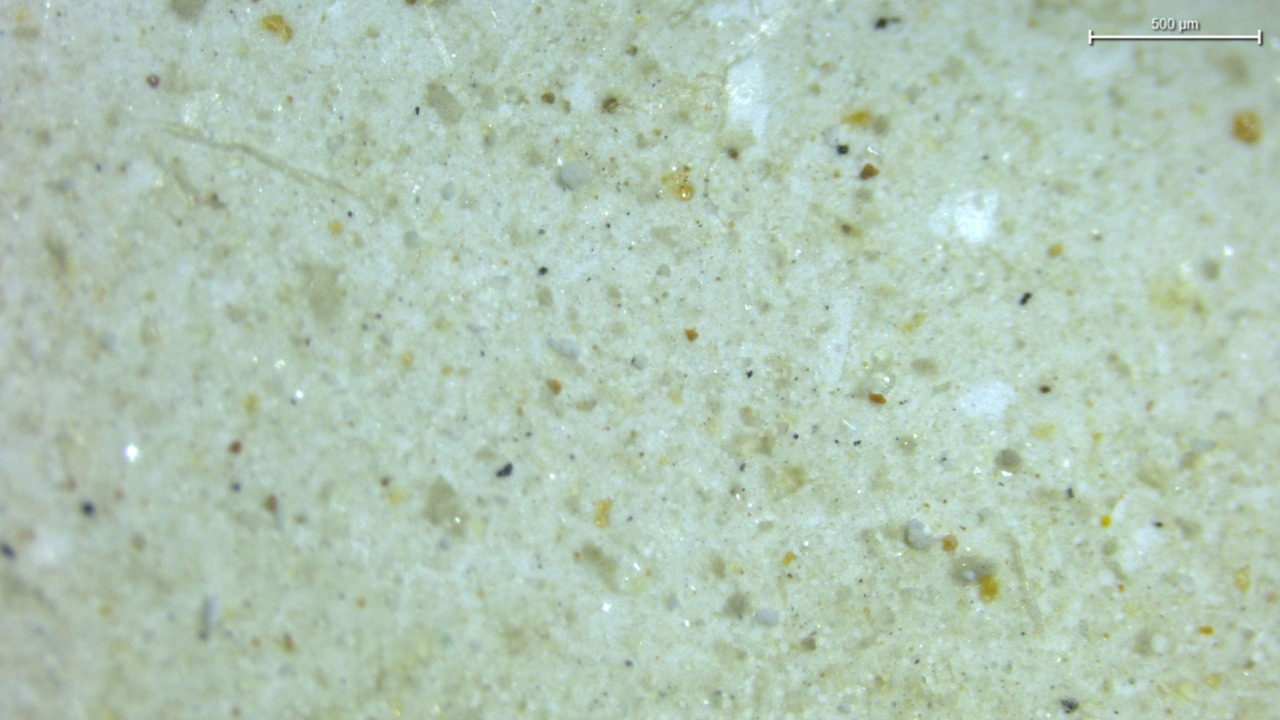microplastic_fragment: (557, 163, 594, 190), (907, 518, 935, 549), (547, 338, 581, 359), (755, 608, 779, 626)
